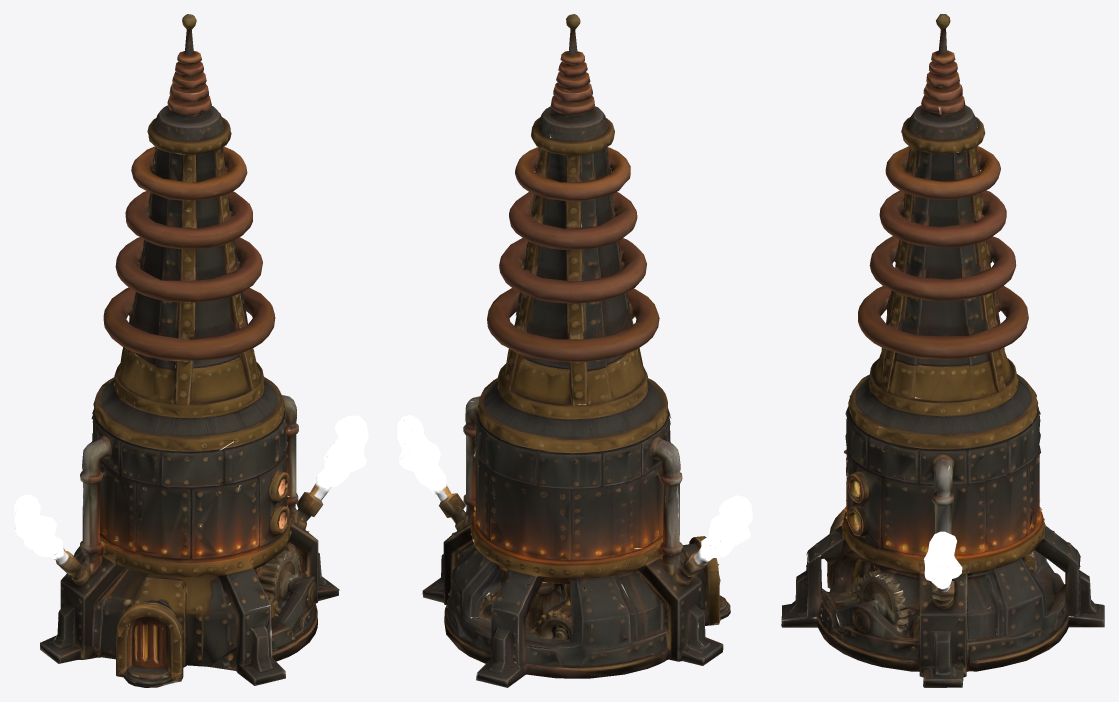
The model's file is tesla_meshy_v01_prepared.fbx.
The picture shows the model from 3 angles, left to right: view 1: azimuth 30°, elevation 25°; view 2: azimuth 150°, elevation 25°; view 3: azimuth 270°, elevation 25°; orthographic projection.
Parts seen in each view (by area): view 1: Mesh1.0; view 2: Mesh1.0; view 3: Mesh1.0.
Boxes of the visible parts, x1=… form: Mesh1.0: x1=14, y1=14, x2=368, y2=687; Mesh1.0: x1=397, y1=14, x2=752, y2=687; Mesh1.0: x1=781, y1=14, x2=1104, y2=687.
Bounding box in the file's own units: 75.72 × 125 × 60.42.
